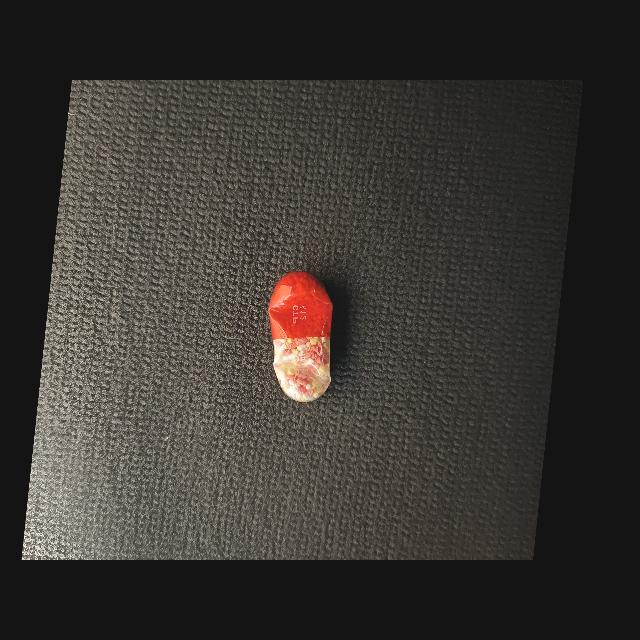Defective Capsule: (268, 271, 333, 402)
